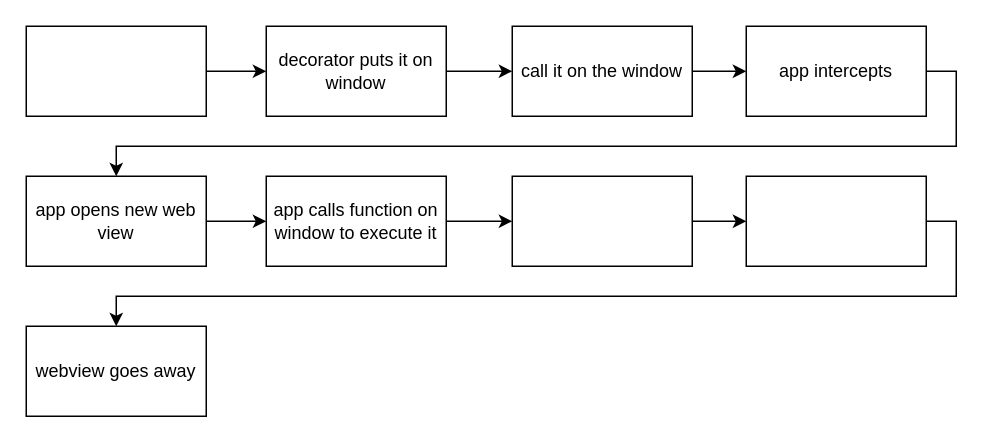
This 995x443 diagram has some shape labels left out. The shapes that lost their labels are listed below. From the top down, each one's centre as x and y in pixels, then its label:
(x=115, y=70): downloadFile
(x=601, y=220): pdf gets displayed
(x=835, y=220): user closes pdf
